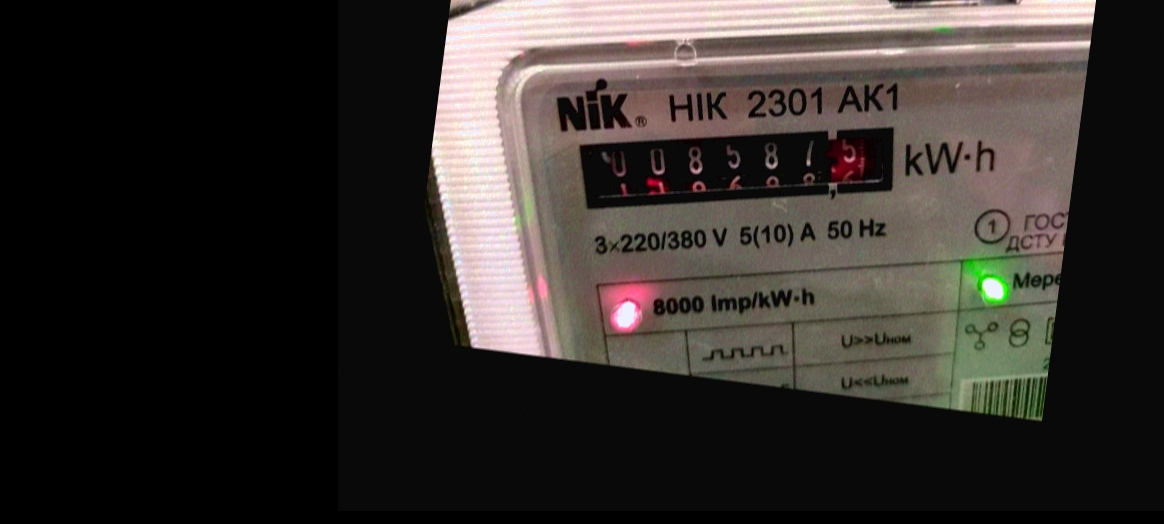0: (642, 141, 672, 178), (603, 144, 633, 179)
5: (719, 138, 746, 172), (835, 131, 861, 164)
6: (837, 166, 857, 185)
7: (795, 135, 821, 171)
8: (681, 142, 709, 177), (756, 137, 783, 172)
screen: (562, 86, 922, 251)
